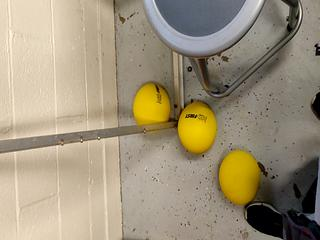power_cell: (121, 72, 178, 143), (167, 91, 224, 162), (212, 140, 269, 211)
